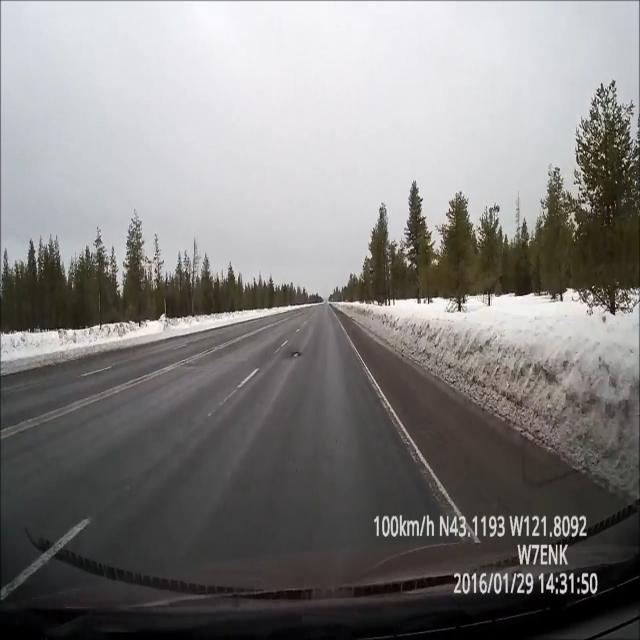Pothole: (278, 336, 308, 366)
